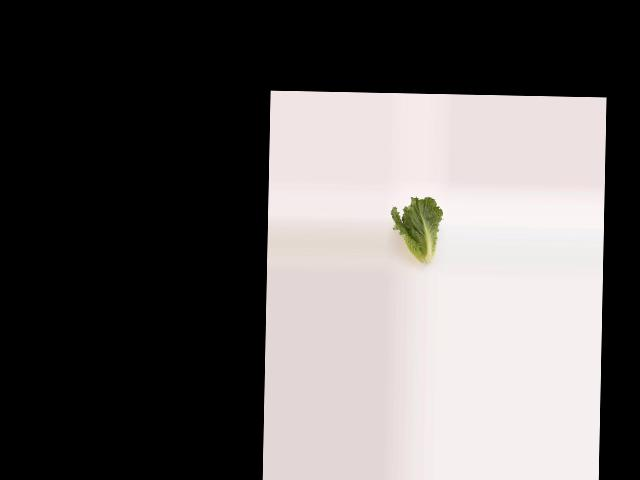lettuce: (392, 194, 444, 271)
